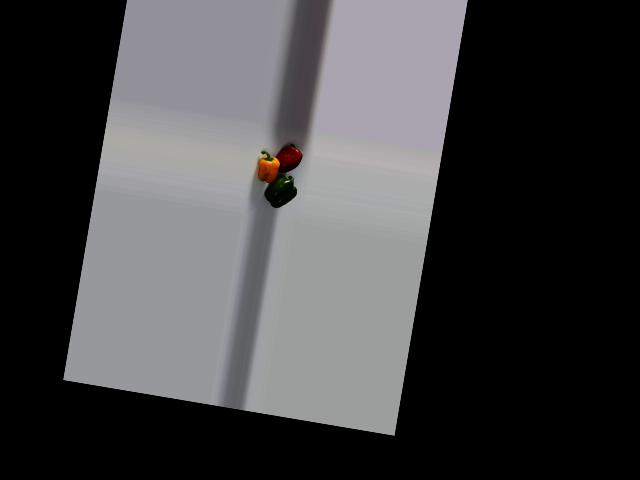bell_pepper: (253, 149, 286, 185)
